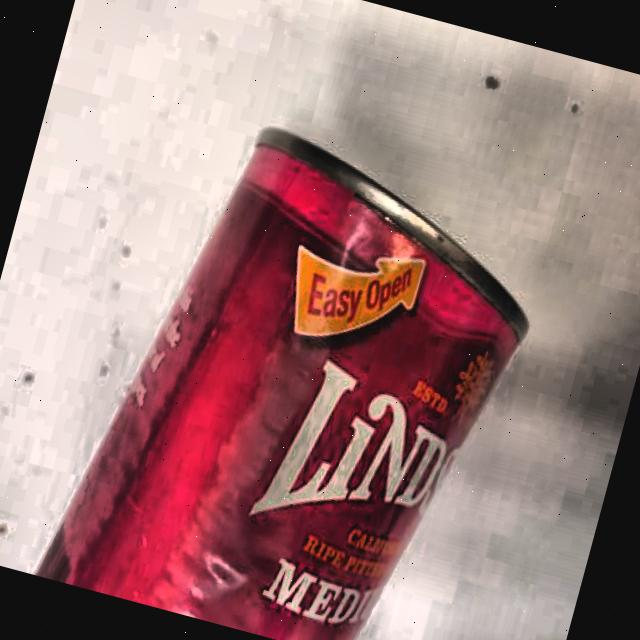metal: (72, 112, 559, 640)
